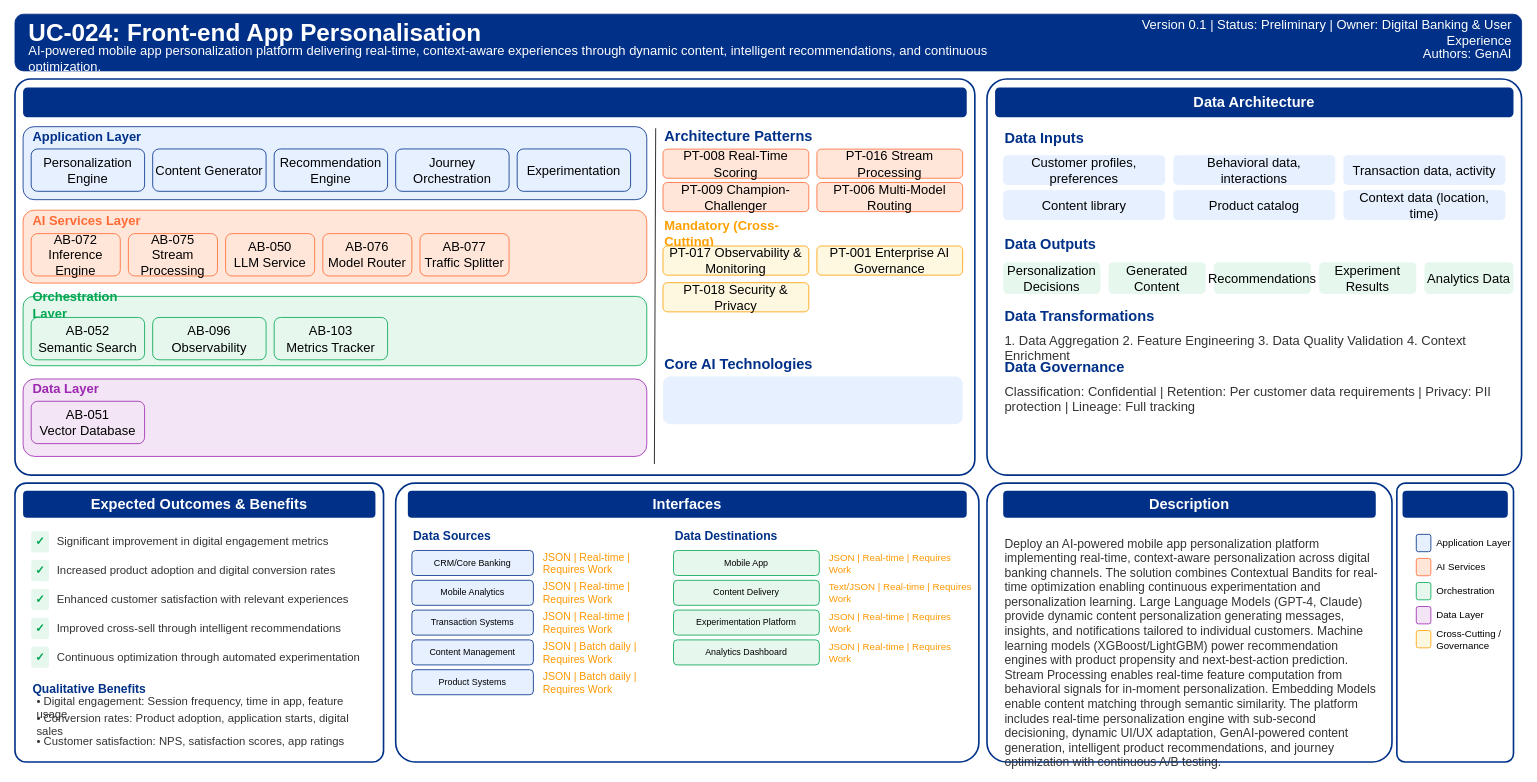
The diagram is 1537 pixels wide and 782 high, and some of its shapes have lost their labels. The centre of each missing label's shape, as x and y in pixels:
Contextual Bandits | GPT-4/Claude | XGBoost/LightGBM | Embedding Models: (x=812, y=400)
Legend: (x=1454, y=503)
Solution: (x=494, y=102)
